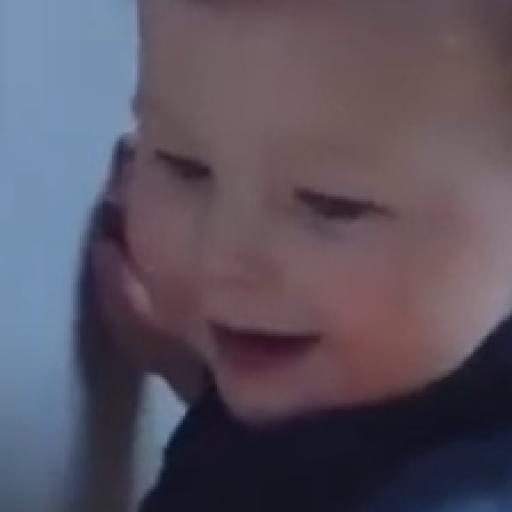Autism: (137, 4, 506, 425)
